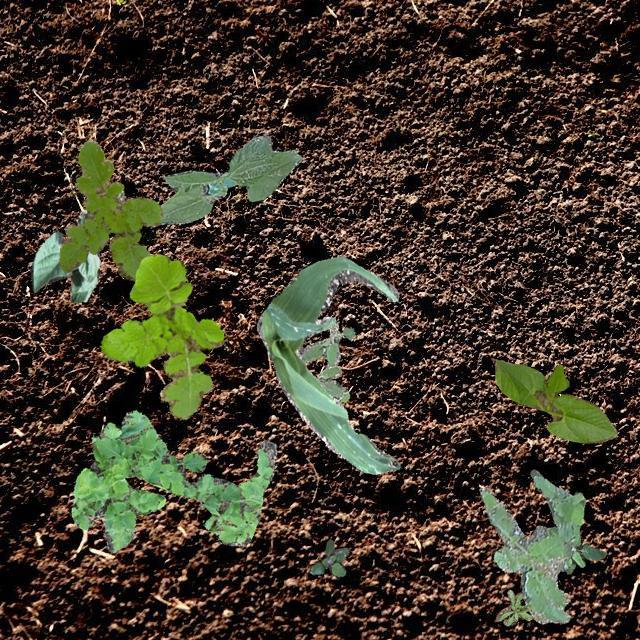crop: (256, 254, 398, 473), (157, 134, 300, 224), (29, 190, 122, 302), (494, 359, 616, 443)
weed: (70, 408, 276, 552), (99, 254, 222, 418), (480, 468, 584, 622), (57, 138, 162, 280), (302, 320, 354, 400), (558, 530, 604, 572), (308, 538, 348, 576), (494, 588, 532, 624)
